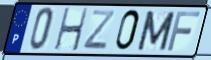0: (29, 7, 56, 53), (114, 8, 141, 53)
F: (165, 10, 202, 53)
H: (53, 7, 90, 53)
M: (135, 9, 177, 52)
Z: (81, 9, 117, 52)
